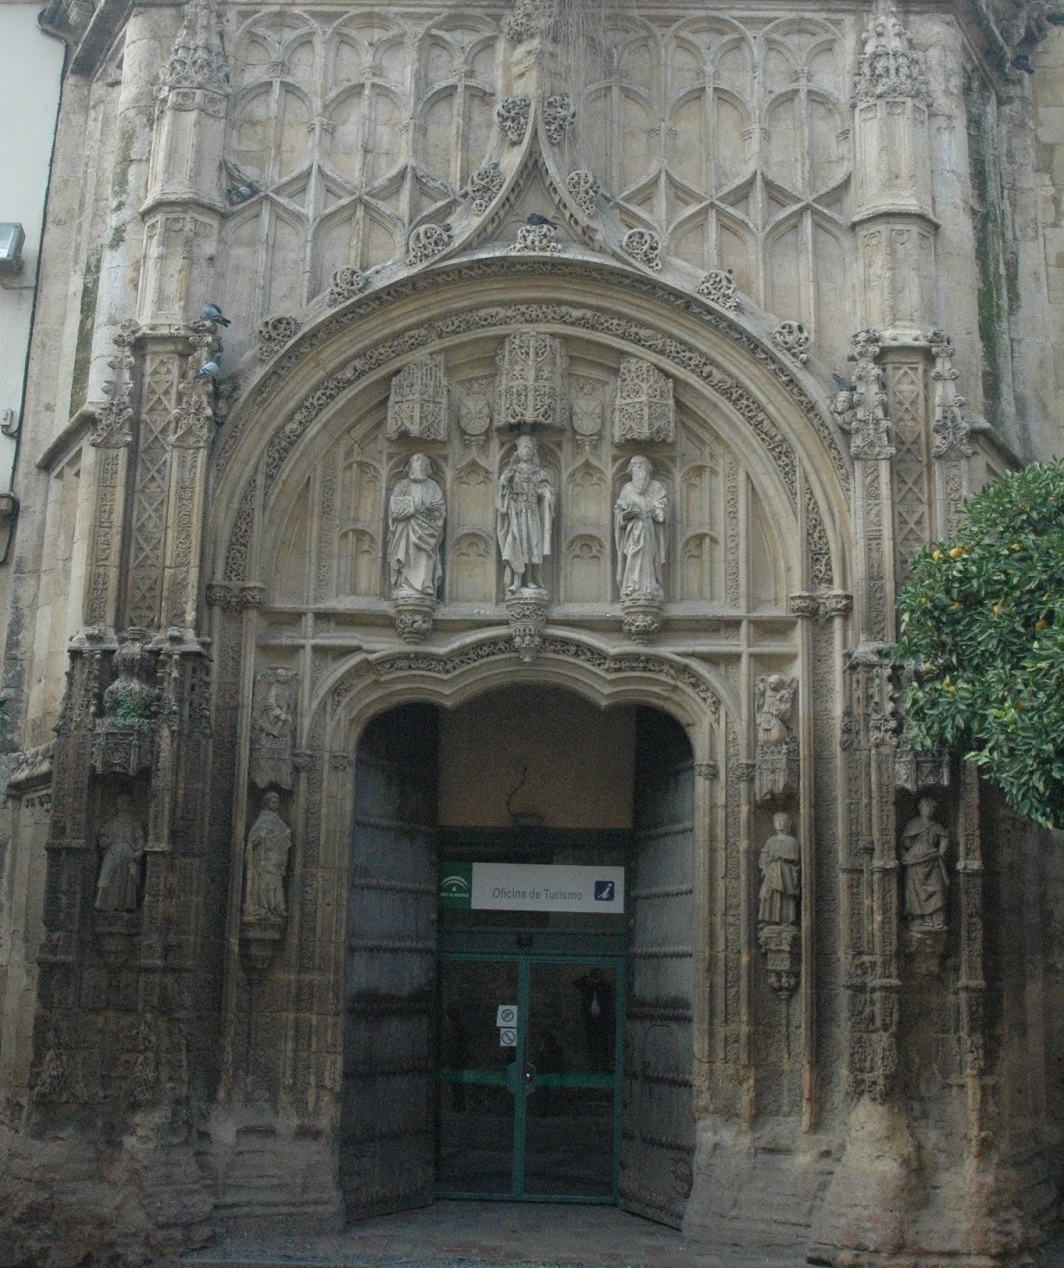arco-conopial: (287, 110, 780, 351)
arco-trilobulado: (329, 629, 743, 764)
